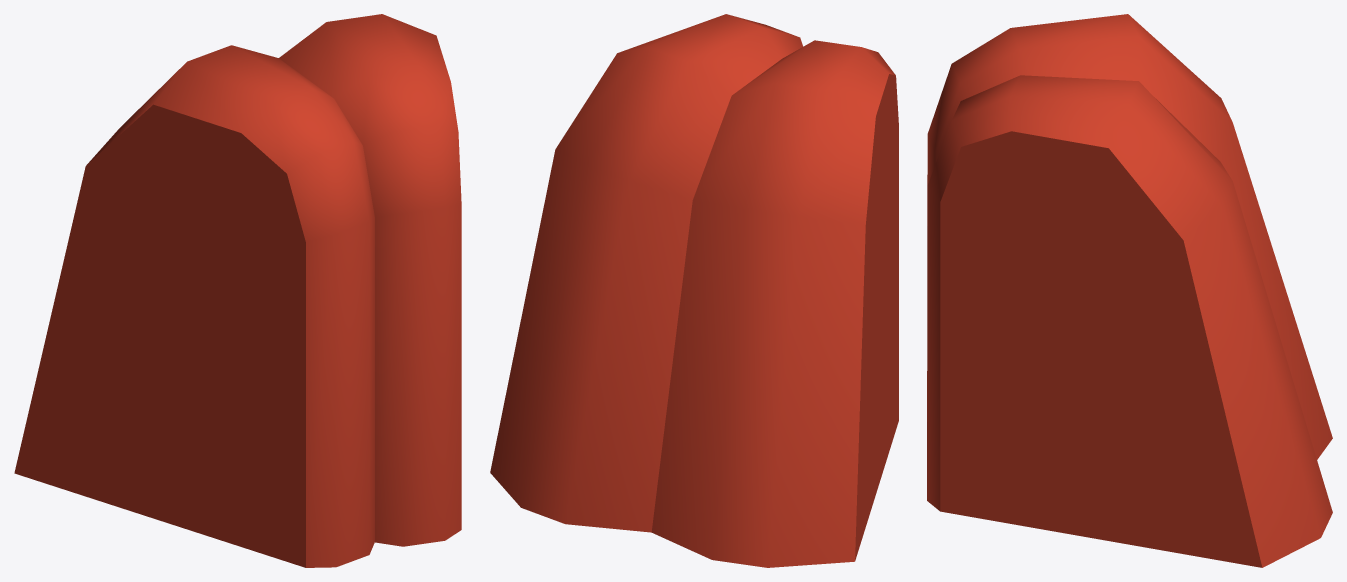
File: GelatinSlice_01.fbx
3 renders of one model, left to right at view 1: azimuth 30°, elevation 25°; view 2: azimuth 150°, elevation 25°; view 3: azimuth 270°, elevation 25°, orthographic. The views are drawn at different scales.
Visible parts, largest first — view 1: GelatinSlice_01; view 2: GelatinSlice_01; view 3: GelatinSlice_01.
Part boxes in pixels (x1,y1,x2,y2): GelatinSlice_01: (14, 14, 461, 567); GelatinSlice_01: (490, 14, 898, 567); GelatinSlice_01: (927, 14, 1332, 567).
Size of the model in its own units: 0.0781 by 0.082 by 0.0724.
